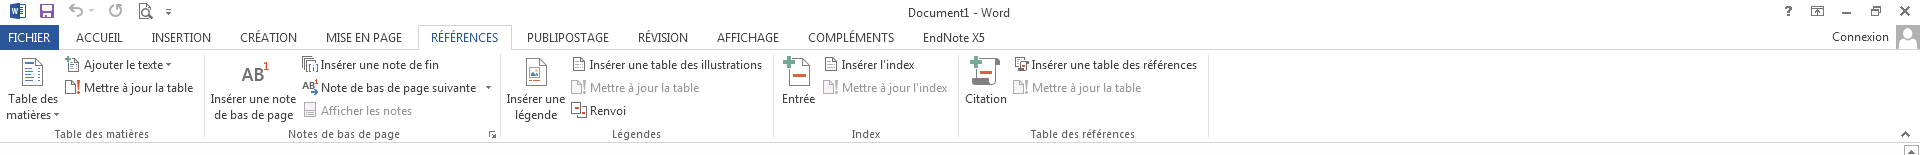texte: (302, 56, 438, 72), (590, 60, 762, 70), (127, 46, 171, 79), (80, 46, 122, 79), (882, 46, 920, 79), (410, 46, 440, 85), (849, 115, 880, 148), (216, 110, 293, 122), (809, 31, 894, 41), (962, 89, 1007, 110), (571, 103, 624, 118), (651, 46, 677, 79), (1136, 57, 1198, 71), (703, 57, 762, 71), (211, 89, 246, 110), (507, 89, 542, 110), (432, 31, 498, 41), (528, 33, 609, 41), (298, 70, 318, 103), (77, 81, 127, 94), (322, 83, 400, 92), (327, 33, 402, 41), (241, 31, 296, 41), (366, 70, 384, 103), (1896, 24, 1920, 49), (1011, 46, 1029, 79), (1833, 32, 1888, 41), (639, 31, 687, 41), (718, 33, 779, 41), (909, 9, 969, 17), (924, 33, 984, 41), (613, 129, 660, 140), (516, 110, 557, 122), (152, 33, 211, 41), (135, 83, 193, 92), (819, 76, 834, 110), (1009, 76, 1024, 110), (7, 110, 59, 120), (681, 46, 696, 79), (822, 46, 836, 79), (1123, 46, 1138, 79), (1082, 129, 1134, 138), (388, 70, 400, 103), (253, 90, 264, 127), (76, 33, 122, 41), (424, 84, 476, 92), (842, 83, 885, 92), (973, 26, 988, 50), (591, 83, 633, 92), (1033, 83, 1075, 92), (107, 129, 148, 138), (842, 60, 877, 70), (322, 106, 361, 115), (618, 26, 632, 50), (789, 26, 802, 50), (573, 46, 583, 79), (1033, 60, 1067, 70), (353, 70, 362, 103), (310, 26, 322, 50), (269, 110, 293, 122), (156, 70, 164, 103), (665, 83, 698, 92), (913, 83, 947, 92), (1107, 83, 1140, 92), (782, 94, 816, 103), (509, 26, 520, 50), (255, 62, 269, 81), (1093, 60, 1119, 70), (981, 9, 1009, 17), (9, 94, 37, 103), (167, 83, 193, 92), (702, 26, 710, 50), (375, 132, 399, 140), (289, 131, 317, 138), (771, 46, 778, 79), (384, 107, 411, 115), (55, 131, 81, 138), (1031, 131, 1057, 138), (404, 85, 422, 95), (273, 95, 296, 103), (782, 56, 795, 68), (65, 81, 76, 94), (571, 81, 582, 94), (40, 94, 58, 103), (122, 70, 126, 103), (628, 70, 632, 103), (880, 70, 884, 103), (1070, 70, 1074, 103), (250, 96, 269, 103), (86, 131, 102, 138), (338, 131, 354, 138), (1062, 131, 1078, 138), (310, 82, 318, 95), (1071, 63, 1089, 70), (367, 106, 380, 115), (640, 85, 656, 92), (893, 85, 909, 92), (1082, 85, 1098, 92), (549, 96, 564, 103), (1900, 6, 1910, 16), (322, 131, 333, 138), (359, 131, 370, 138), (489, 131, 496, 138), (583, 81, 587, 94), (1025, 81, 1029, 94), (130, 85, 133, 95), (636, 85, 639, 95), (888, 85, 891, 95), (1078, 85, 1081, 95), (835, 81, 838, 94), (411, 85, 415, 92), (486, 85, 491, 89), (973, 13, 977, 13), (662, 83, 662, 92), (1104, 83, 1104, 92)
